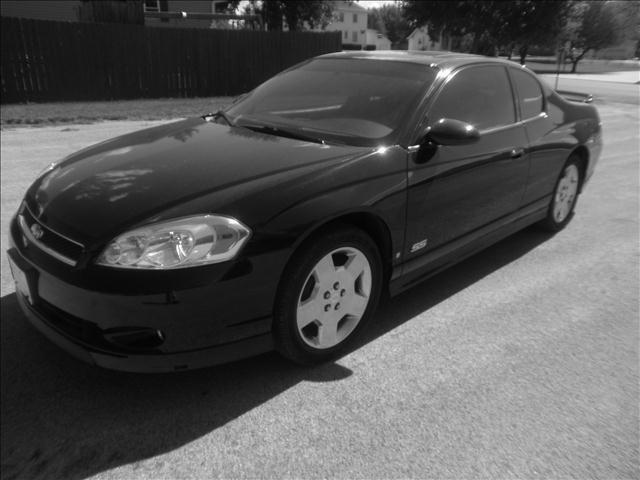car: (11, 48, 613, 393)
